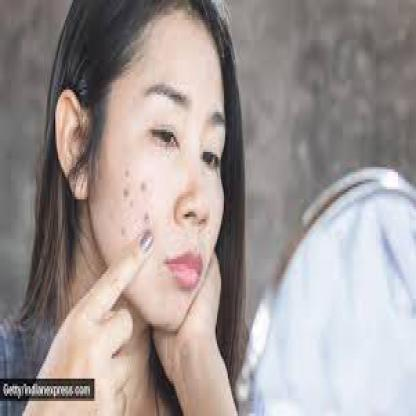darkspot: (118, 160, 158, 244)
